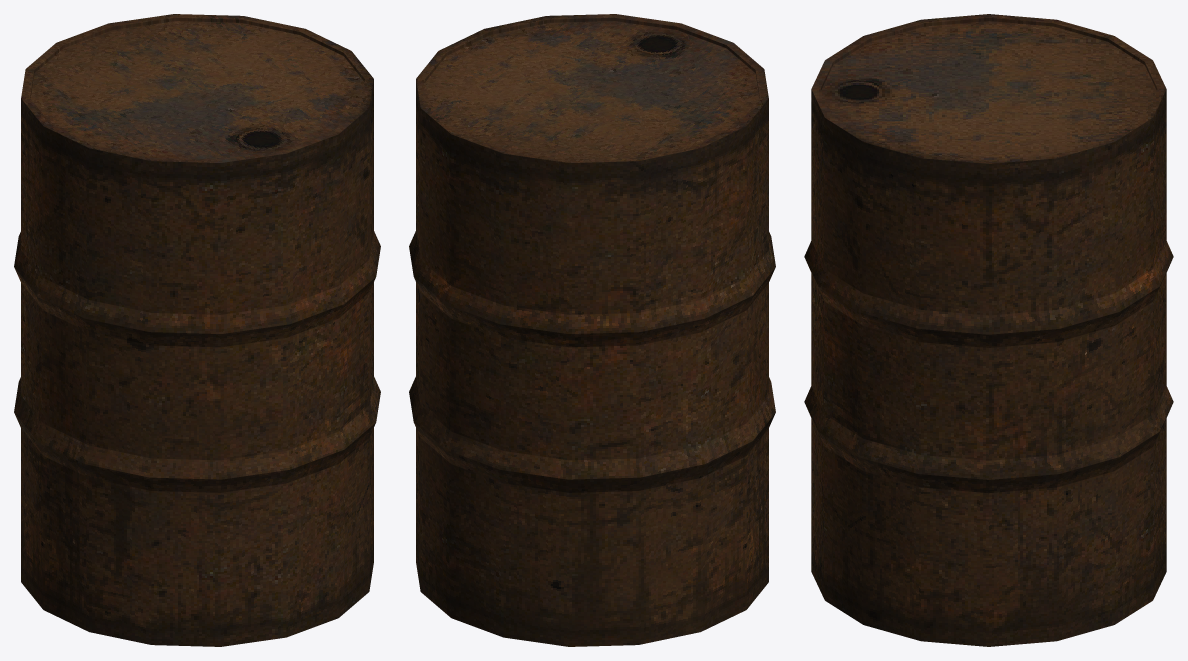
Rendered from metal_barrel_mp_3.glb.
3 views of the same model, side by side, from view 1: azimuth 30°, elevation 25°; view 2: azimuth 150°, elevation 25°; view 3: azimuth 270°, elevation 25° (orthographic).
Parts seen in each view (by area): view 1: metal_barrel_mp_3; view 2: metal_barrel_mp_3; view 3: metal_barrel_mp_3.
Boxes of the visible parts, x1,y1,x2,y2 form: metal_barrel_mp_3: (14, 14, 380, 646); metal_barrel_mp_3: (409, 14, 775, 646); metal_barrel_mp_3: (804, 14, 1173, 646).
Size of the model in its own units: 0.7488 by 1.08 by 0.7488.
1 material, 1 textured.
